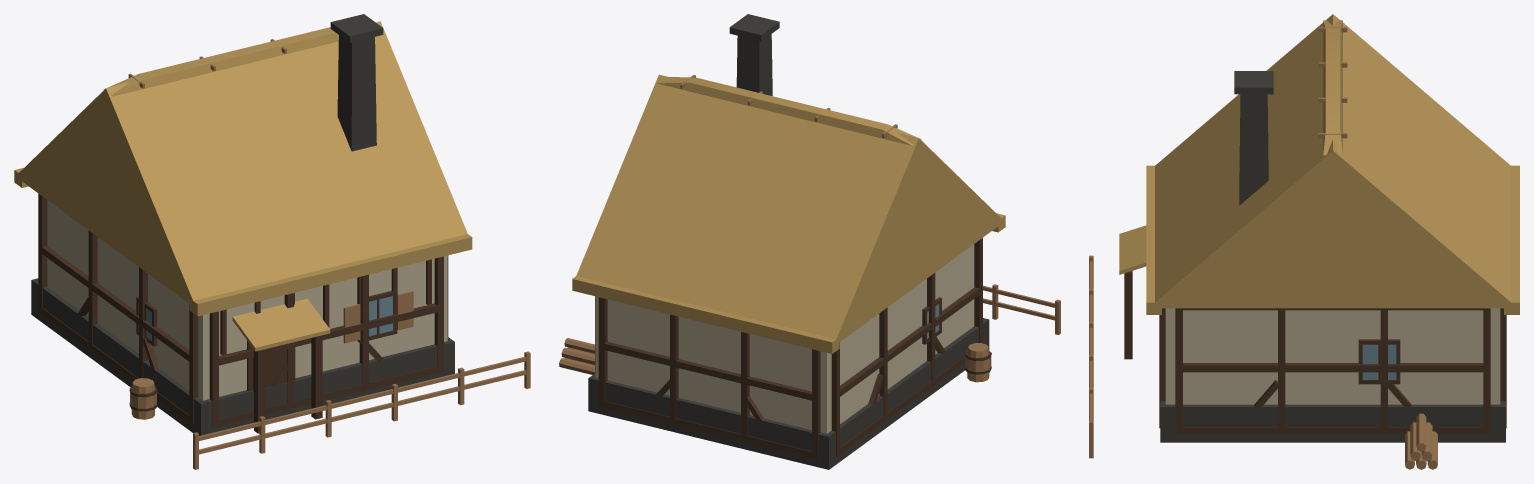
Rendered from house_small_01.glb.
3 renders of one model, left to right at view 1: azimuth 30°, elevation 25°; view 2: azimuth 150°, elevation 25°; view 3: azimuth 270°, elevation 25°, orthographic. The views are drawn at different scales.
Parts seen in each view (by area): view 1: house_small_01_lod0; view 2: house_small_01_lod0; view 3: house_small_01_lod0.
Boxes of the visible parts, box(x1,y1,x2,y2) form: house_small_01_lod0: box(14, 14, 530, 469); house_small_01_lod0: box(559, 14, 1060, 469); house_small_01_lod0: box(1089, 14, 1519, 469).
Size of what is drawn, in the model's own units: 9.1 by 8.01 by 9.27.
